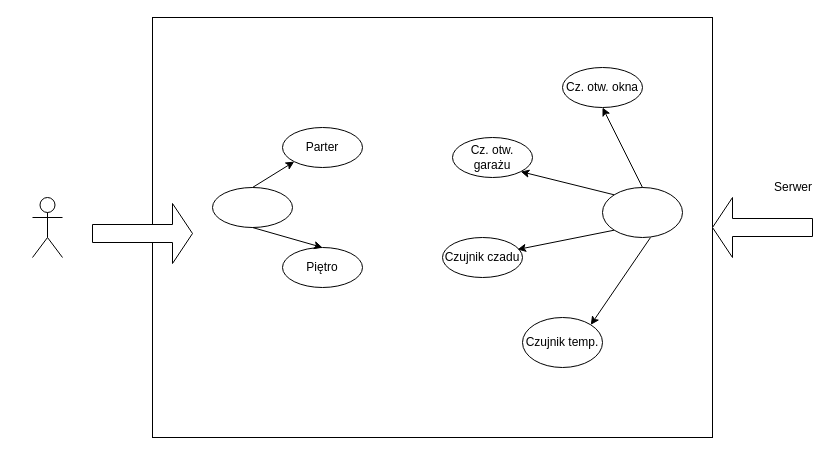
Some shapes in this 840 by 455 pixel diagram are drawn without their labels. The shapes that lost their labels are listed below. From the top down, each one's centre as x and y in pixels, then its label:
At point 47,227: "Użytkownik".
At point 252,207: "Ustaw temp".
At point 642,212: "Alarm".
